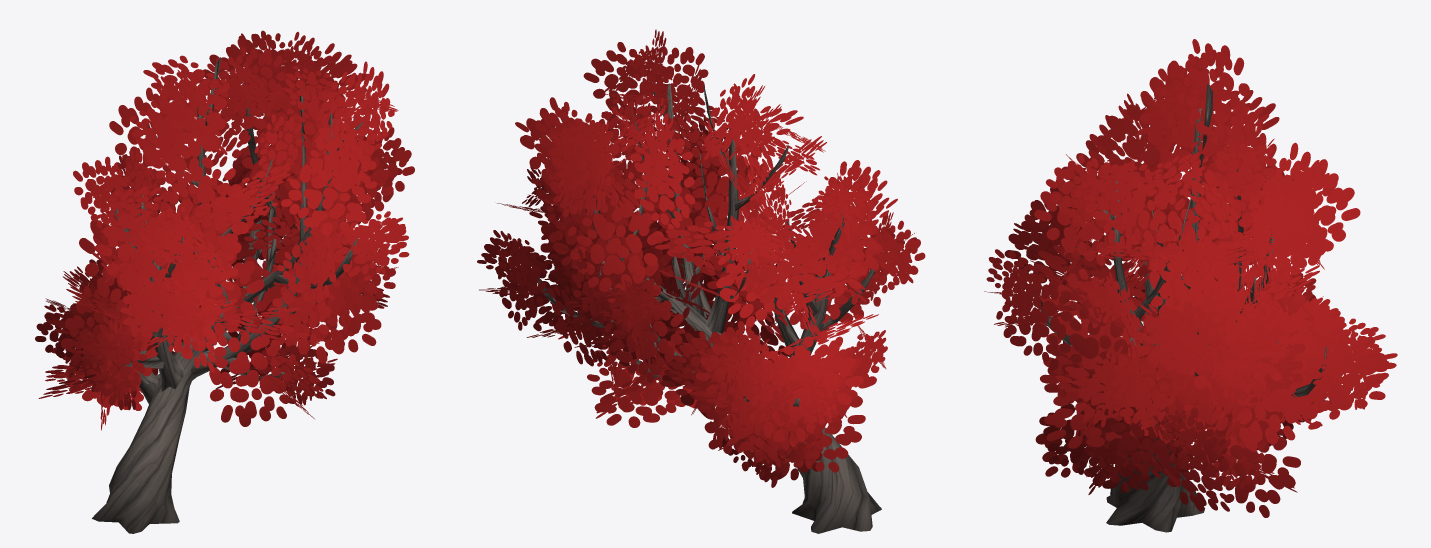
The model's file is twisted_tree_free_model_lo.glb.
3 renders of one model, left to right at view 1: azimuth 30°, elevation 25°; view 2: azimuth 150°, elevation 25°; view 3: azimuth 270°, elevation 25°, orthographic. The views are drawn at different scales.
Visible parts, largest first — view 1: TwistedTree_1; view 2: TwistedTree_1; view 3: TwistedTree_1.
Boxes of the visible parts, bbox=[...] form: TwistedTree_1: bbox=[35, 30, 414, 533]; TwistedTree_1: bbox=[477, 29, 925, 533]; TwistedTree_1: bbox=[984, 39, 1397, 532].
Size of the model in its own units: 14.65 by 16.67 by 12.86.
Materials: 2 (2 with a texture image).
